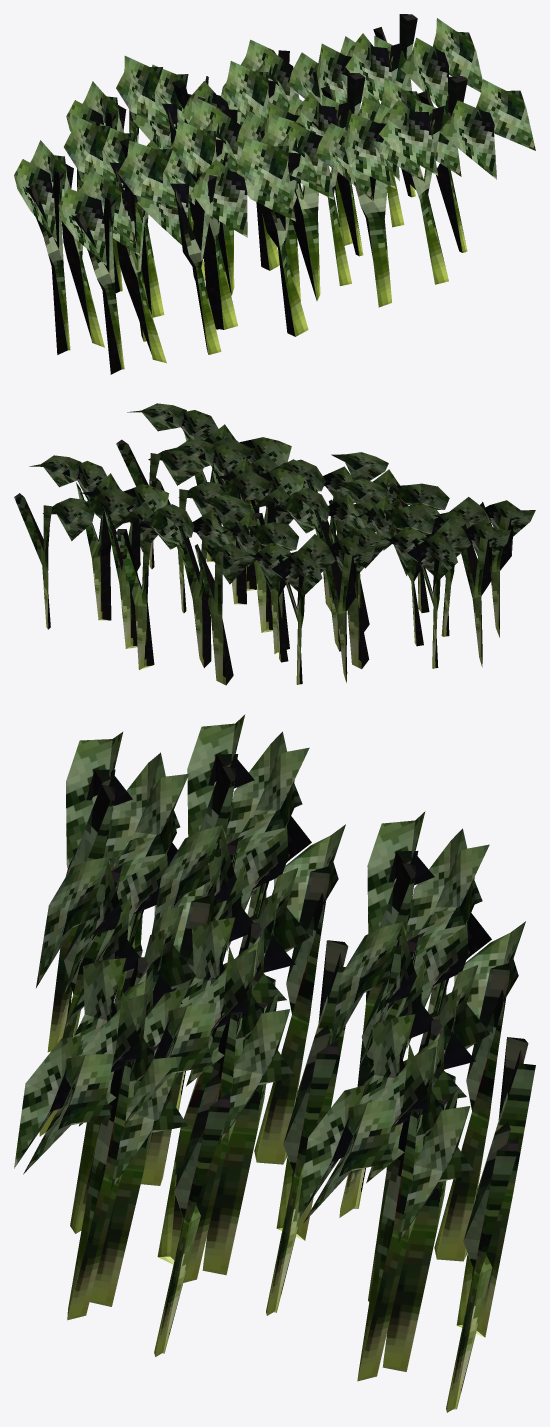
Rendered from Fruta6.fbx.
3 renders of one model, top to bottom at view 1: azimuth 30°, elevation 25°; view 2: azimuth 150°, elevation 25°; view 3: azimuth 270°, elevation 25°, orthographic. The views are drawn at different scales.
Parts seen in each view (by area): view 1: Cube.021, Cube.019, Cube.006; view 2: Cube.019, Cube.006, Cube.021; view 3: Cube.019, Cube.021, Cube.006.
Boxes of the visible parts, <box> form: Cube.021: <box>58,76,535,374</box>; Cube.019: <box>66,14,482,293</box>; Cube.006: <box>14,73,424,354</box>; Cube.019: <box>14,455,375,685</box>; Cube.006: <box>149,439,510,669</box>; Cube.021: <box>116,403,535,637</box>; Cube.019: <box>296,811,535,1412</box>; Cube.021: <box>14,732,230,1356</box>; Cube.006: <box>124,714,348,1315</box>.
Bounding box in the file's own units: 74.92 × 31.48 × 39.32.
1 material, 1 textured.
